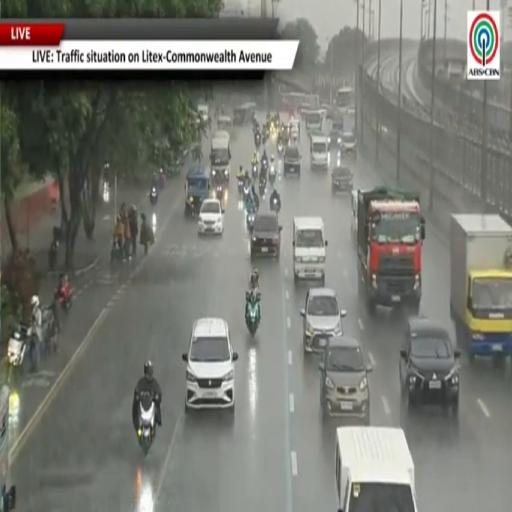bus: (0, 386, 16, 511), (281, 92, 319, 110), (336, 87, 355, 111)
car: (399, 317, 460, 413), (183, 318, 238, 412), (319, 335, 372, 425), (300, 288, 346, 353), (251, 213, 281, 258), (198, 199, 223, 234), (332, 165, 353, 193), (283, 146, 301, 176), (342, 132, 356, 156), (328, 130, 342, 150)
motorcycle: (7, 324, 31, 376), (138, 394, 155, 455), (245, 293, 260, 335), (55, 282, 74, 313), (48, 238, 58, 270), (111, 239, 124, 262), (270, 197, 281, 213), (246, 212, 255, 230), (269, 164, 276, 184), (150, 187, 157, 205), (159, 169, 165, 189), (216, 184, 223, 201), (259, 179, 266, 196), (237, 178, 244, 194), (243, 186, 250, 202), (255, 133, 261, 149), (261, 159, 268, 172), (252, 165, 258, 180), (277, 142, 283, 157), (262, 132, 268, 146)
truck: (450, 214, 511, 361), (357, 187, 425, 314), (336, 427, 417, 511), (0, 386, 18, 511), (185, 166, 210, 216)
